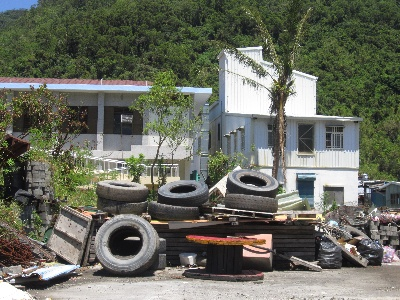plastic_bag: (354, 238, 386, 267), (315, 239, 345, 269)
tire: (94, 214, 162, 277), (226, 168, 281, 198), (157, 179, 211, 207), (95, 178, 149, 203), (149, 198, 201, 221), (224, 193, 280, 213), (95, 197, 148, 216)
